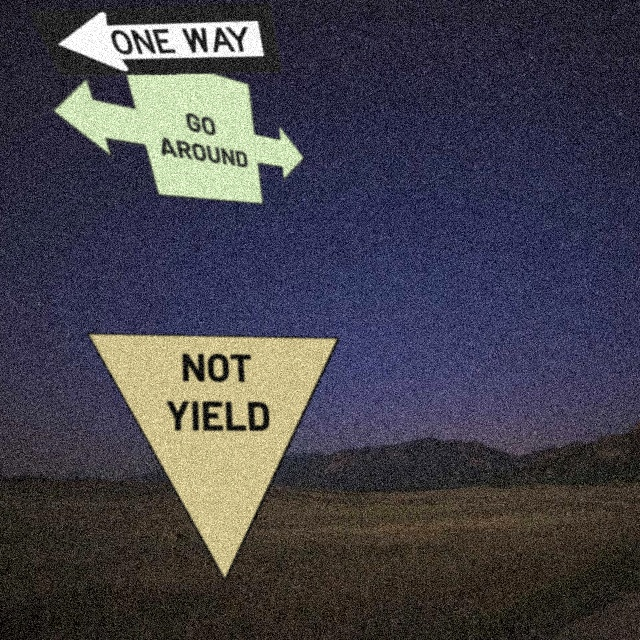GO_AROUND: (51, 42, 305, 205)
NOT_YIELD: (86, 332, 340, 582)
ONE_WAY_ left: (28, 2, 282, 76)
